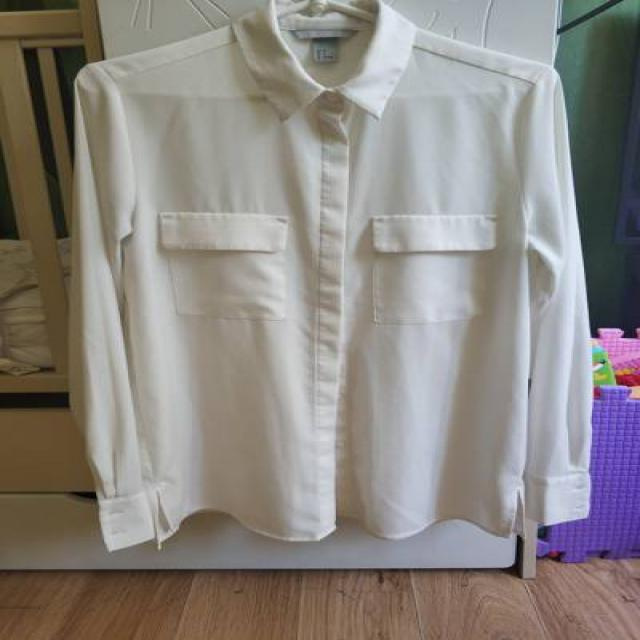Clothes -Biodegradable-: (66, 0, 599, 553)
